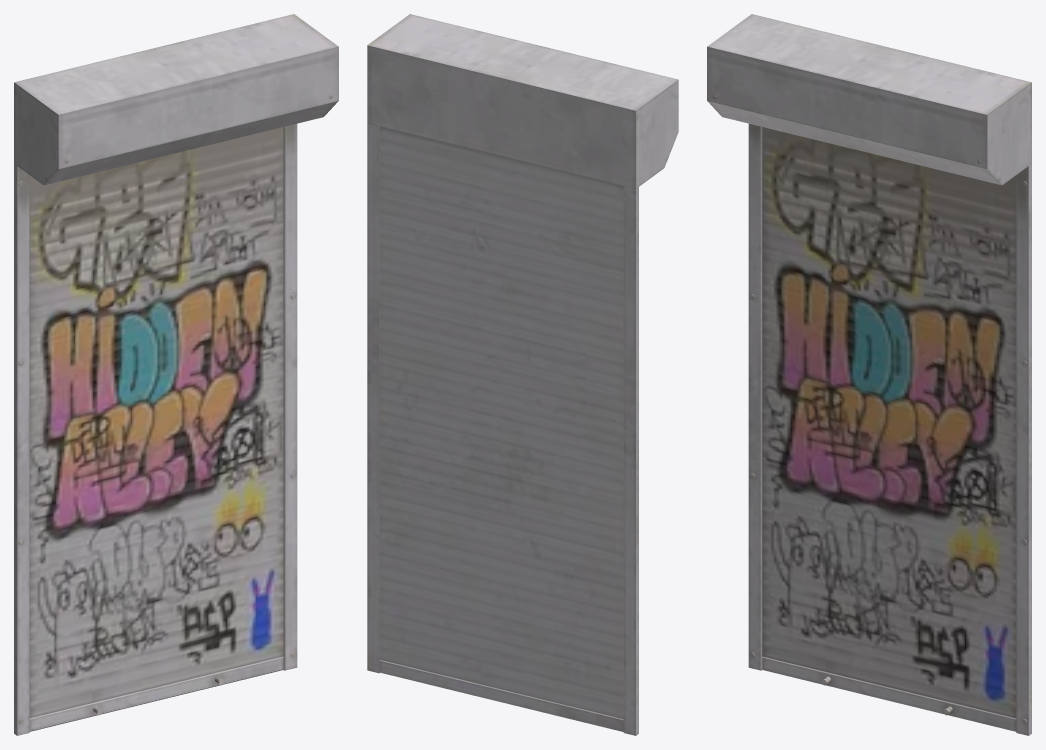
The model's file is roller-shutter--2.gltf.
3 views of the same model, side by side, from view 1: azimuth 30°, elevation 25°; view 2: azimuth 150°, elevation 25°; view 3: azimuth 330°, elevation 25° (orthographic). The views are drawn at different scales.
Visible parts, largest first — view 1: rollershutter_door_graffiti; view 2: rollershutter_door_graffiti; view 3: rollershutter_door_graffiti.
Boxes of the visible parts, x1,y1,x2,y2 form: rollershutter_door_graffiti: [14, 14, 338, 735]; rollershutter_door_graffiti: [367, 14, 678, 735]; rollershutter_door_graffiti: [707, 14, 1031, 735].
Size of the model in its own units: 1.08 by 2.4 by 0.3.
Materials: 1 (1 with a texture image).
